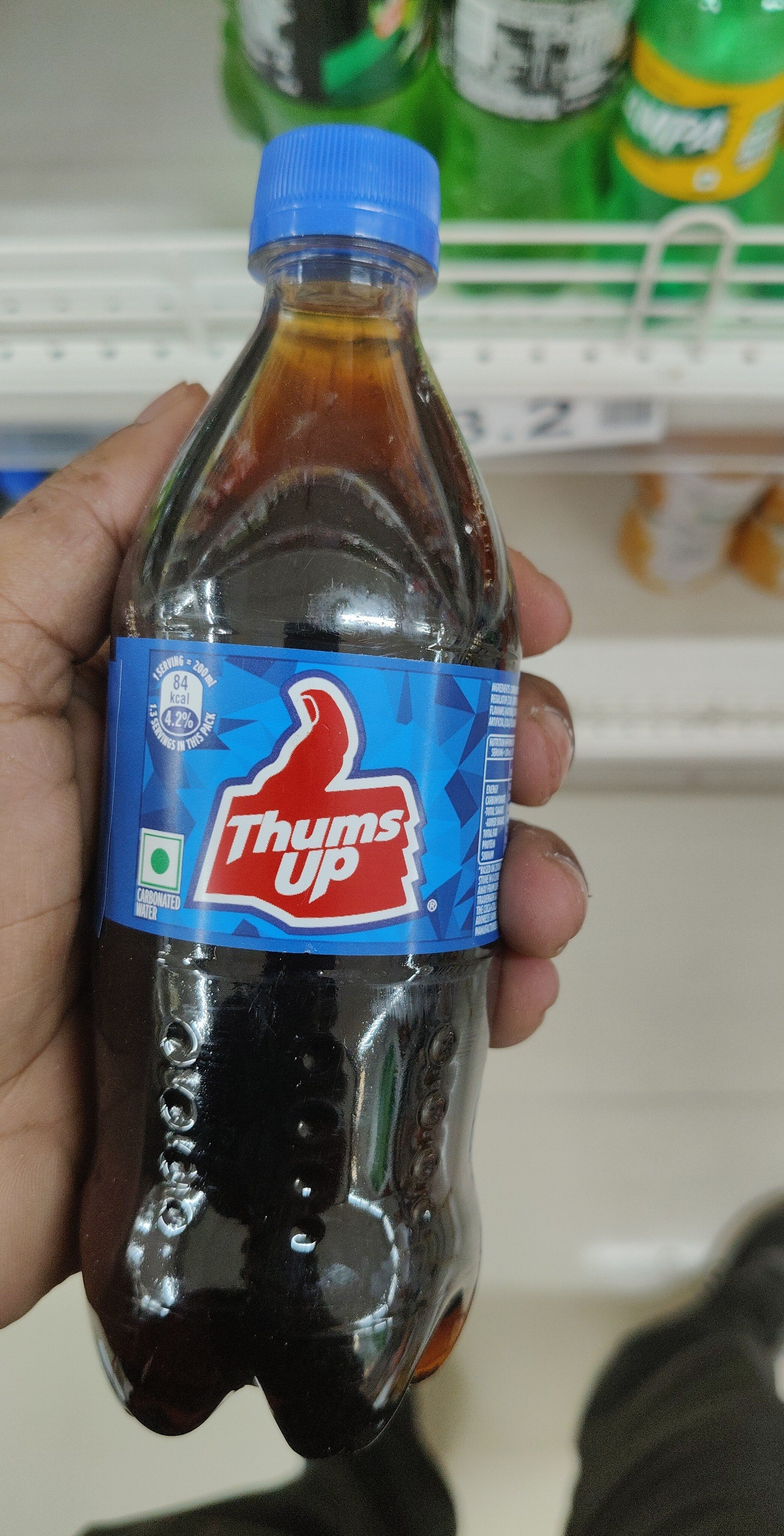Thums Up: (71, 138, 713, 1398)
